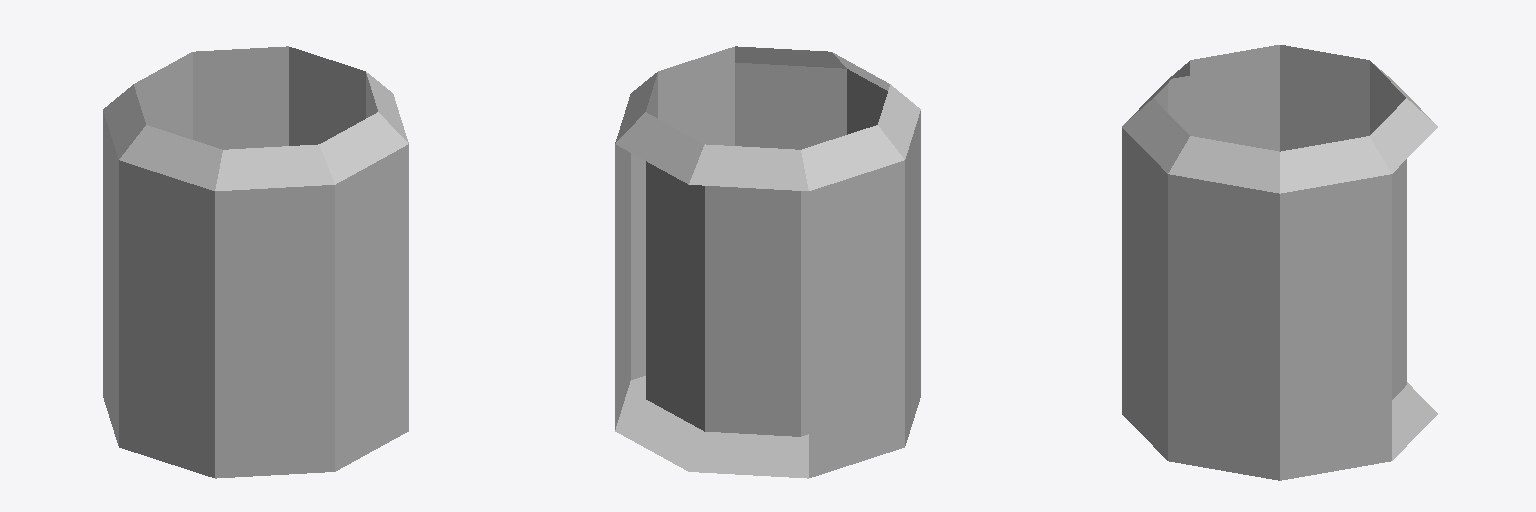
Rendered from container.obj.
3 views of the same model, side by side, from view 1: azimuth 30°, elevation 25°; view 2: azimuth 150°, elevation 25°; view 3: azimuth 270°, elevation 25° (orthographic).
Visible parts, largest first — view 1: Cylinder; view 2: Cylinder; view 3: Cylinder.
Boxes of the visible parts, box(x1,y1,x2,y2) form: Cylinder: box(103, 46, 408, 478); Cylinder: box(615, 46, 920, 478); Cylinder: box(1122, 45, 1437, 480).
Bounding box in the file's own units: 2 × 2.2 × 2.